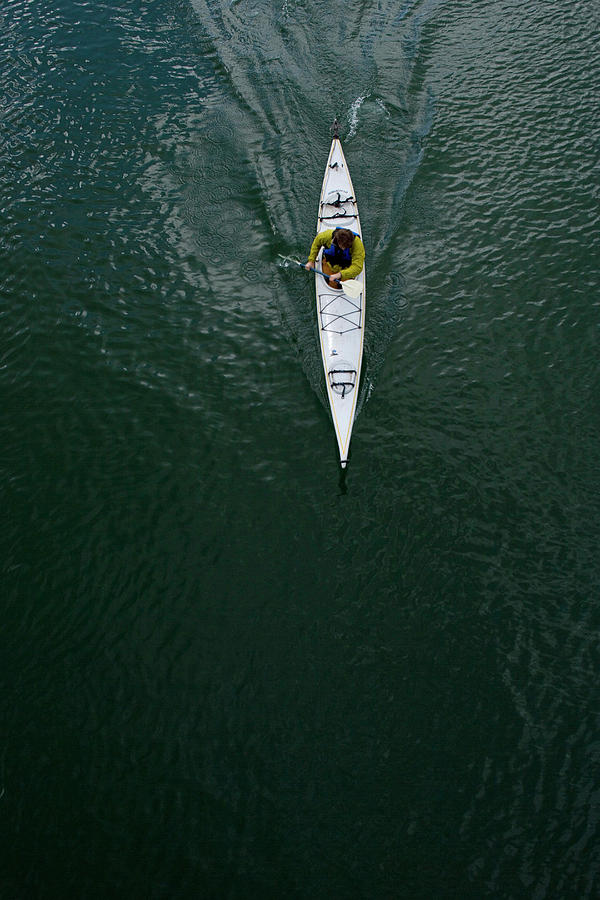kayaker: (275, 117, 388, 479)
